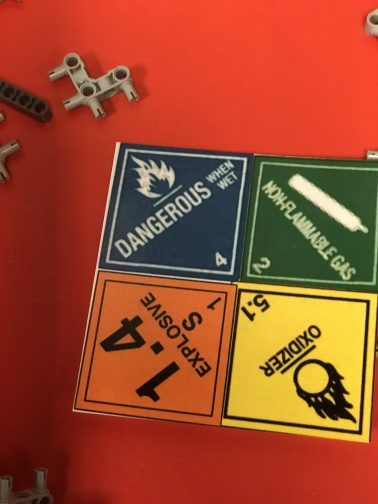DangerousWhenWet: (101, 142, 251, 281)
Explosive: (74, 271, 237, 427)
NonFlammableGas: (238, 155, 378, 295)
Oxidizer: (222, 280, 378, 444)
